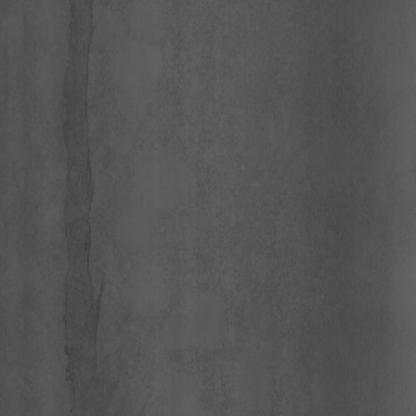water_spot: (52, 9, 113, 401)
